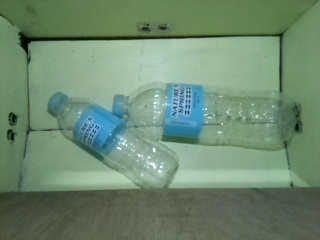bottle: (113, 80, 297, 151), (47, 91, 178, 189)
